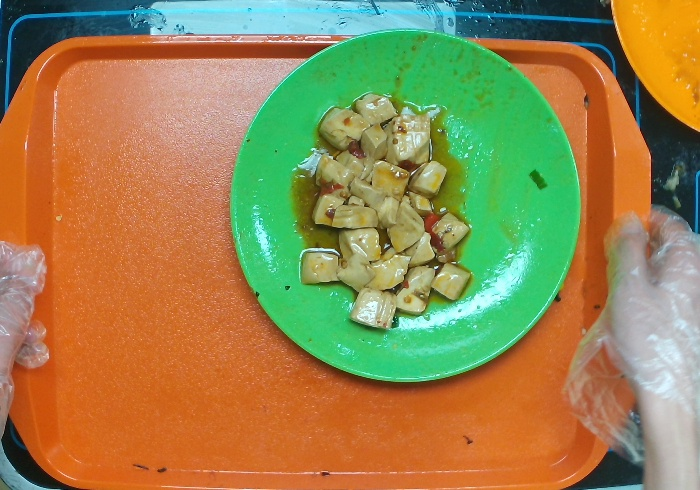HZYJPL-Lv_Se_Yuan_Pan: (215, 8, 594, 397)
